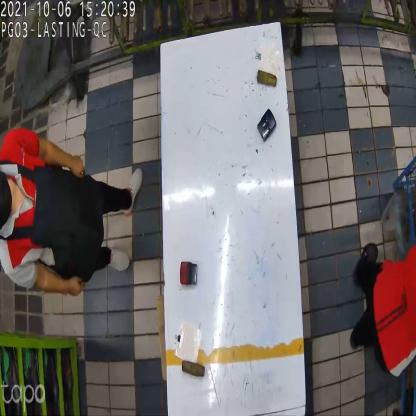stamp: (258, 106, 276, 143), (179, 258, 197, 288)
